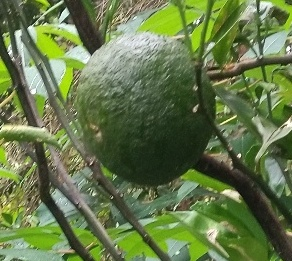Cam: (71, 30, 219, 188)
